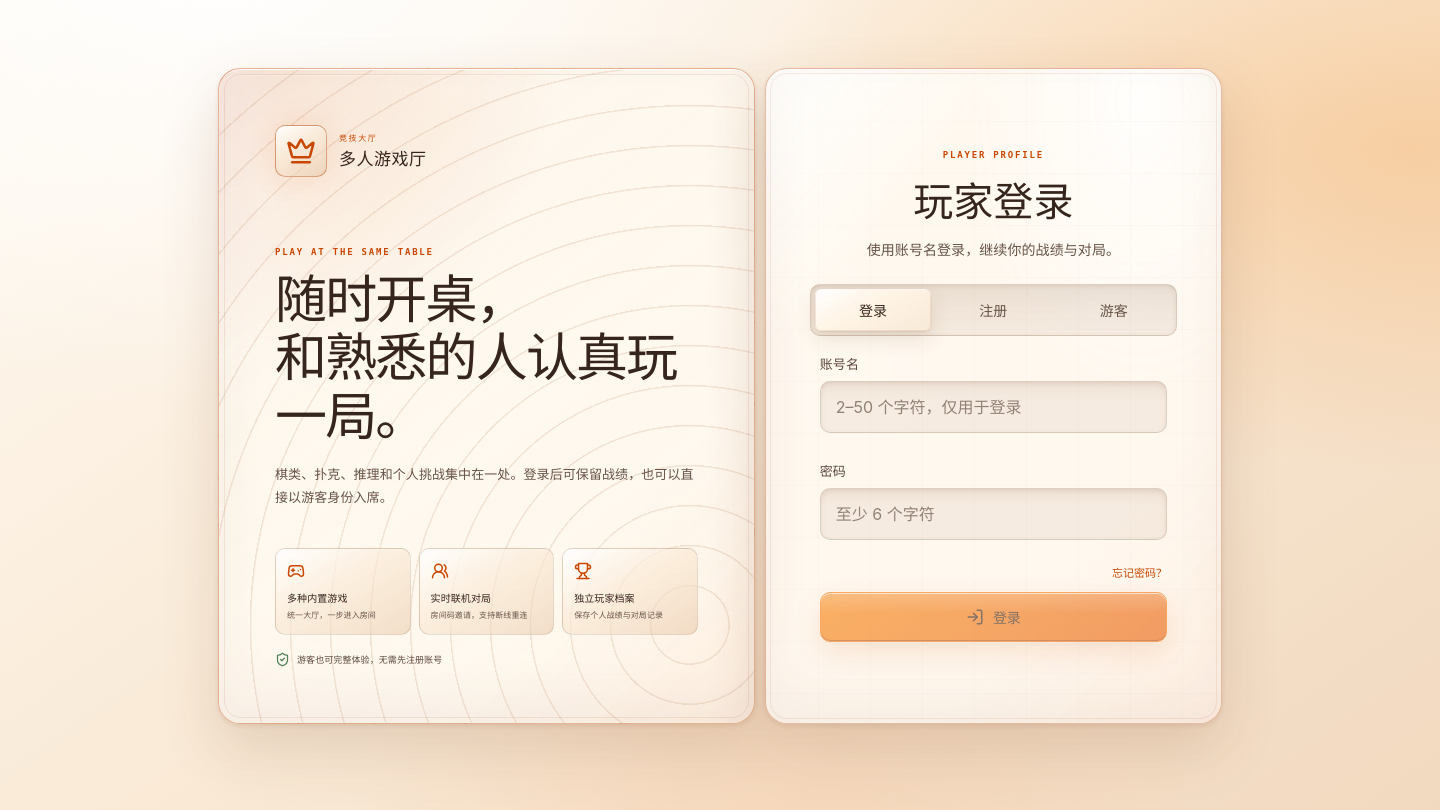
AccountGate › rejects Chinese and unsupported symbols in new account names
Click the button "注册" at (993, 310), box [935,288,1052,330]
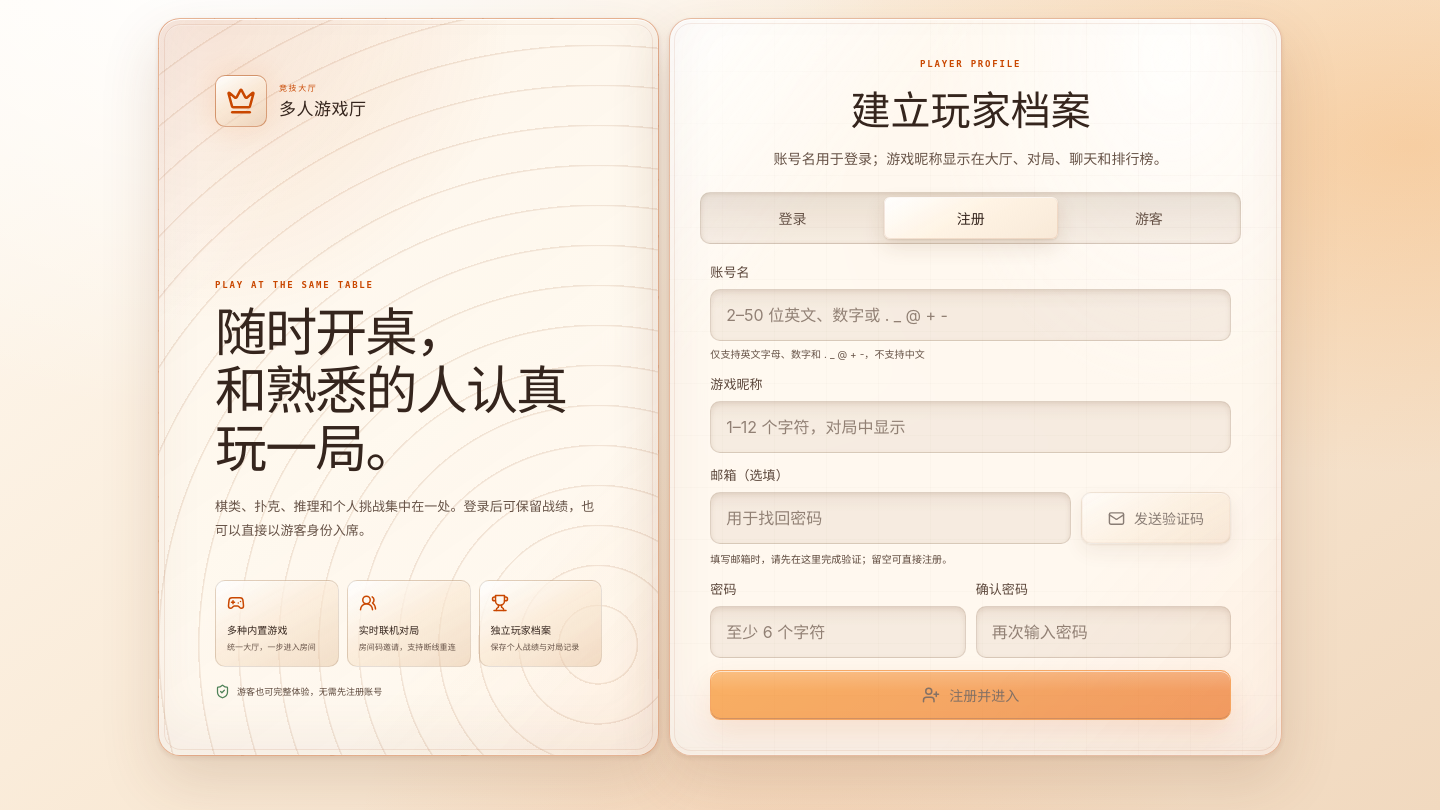
Type "中文账号" into the field labelled "账号名 仅支持英文字母、数字和 . _ @ + -，不支持中文" at (971, 315), box [710,289,1231,341]
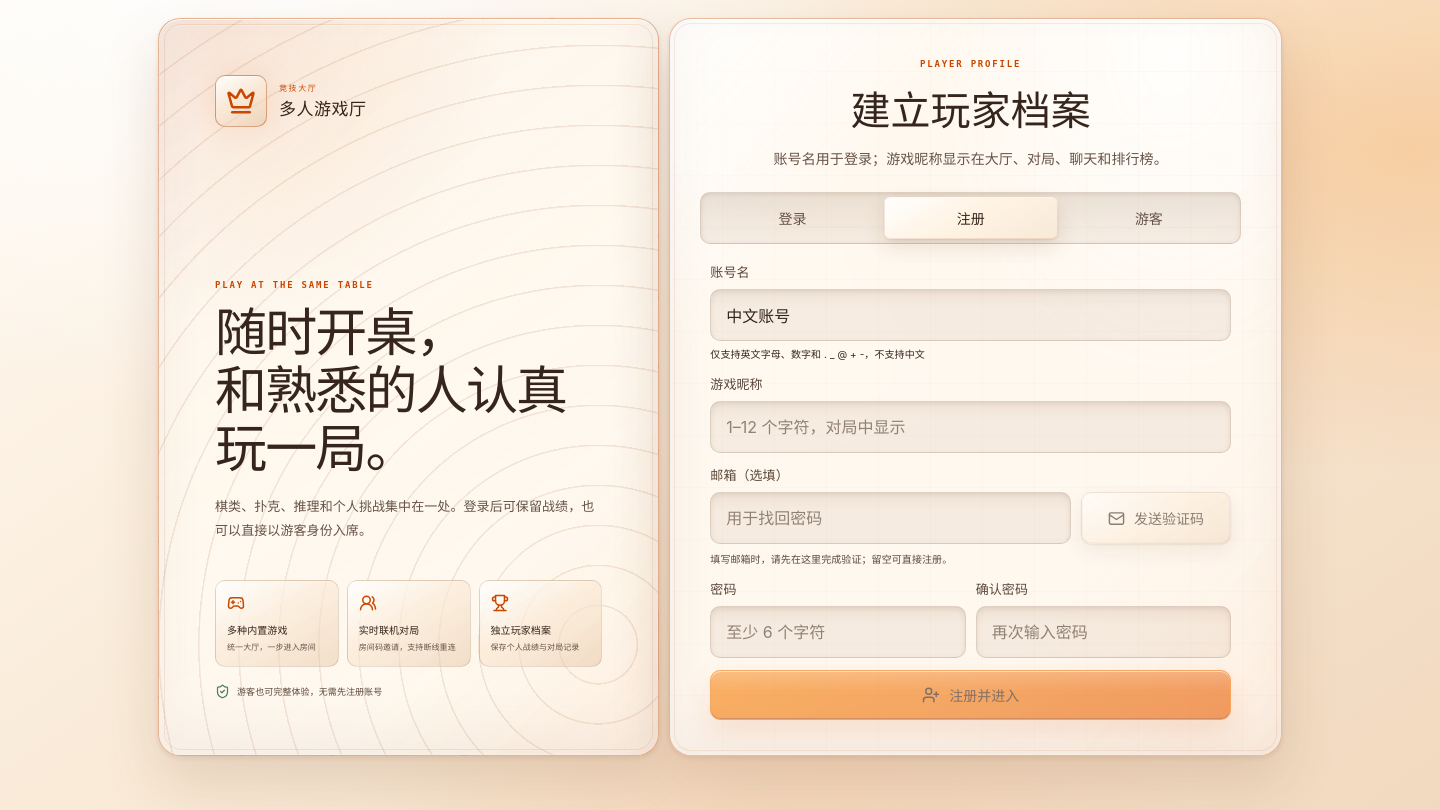
Type "中文昵称" into the field labelled "游戏昵称" at (971, 427), box [710,401,1231,453]
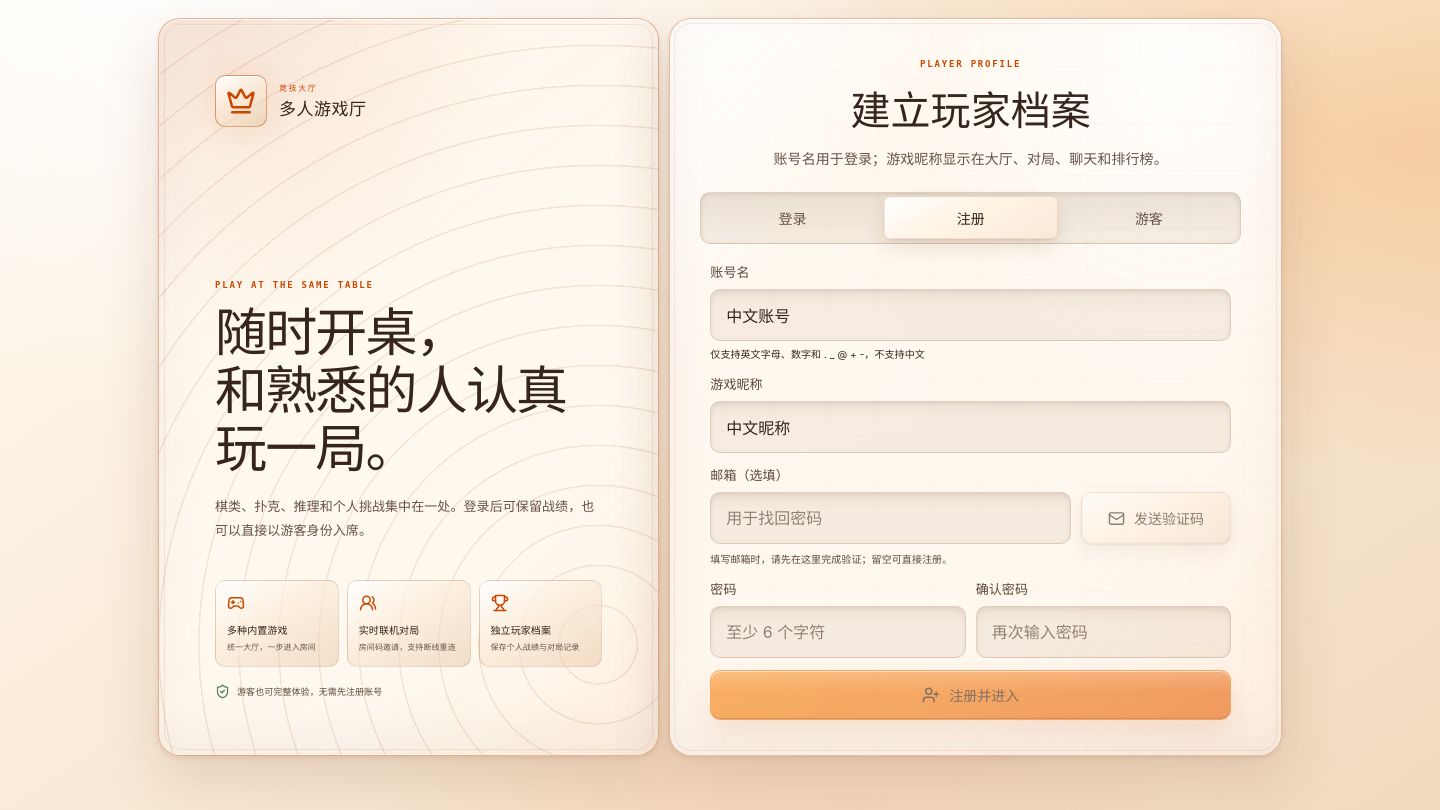
Type "secret123" into the password field labelled "密码" at (838, 632), box [710,606,966,658]
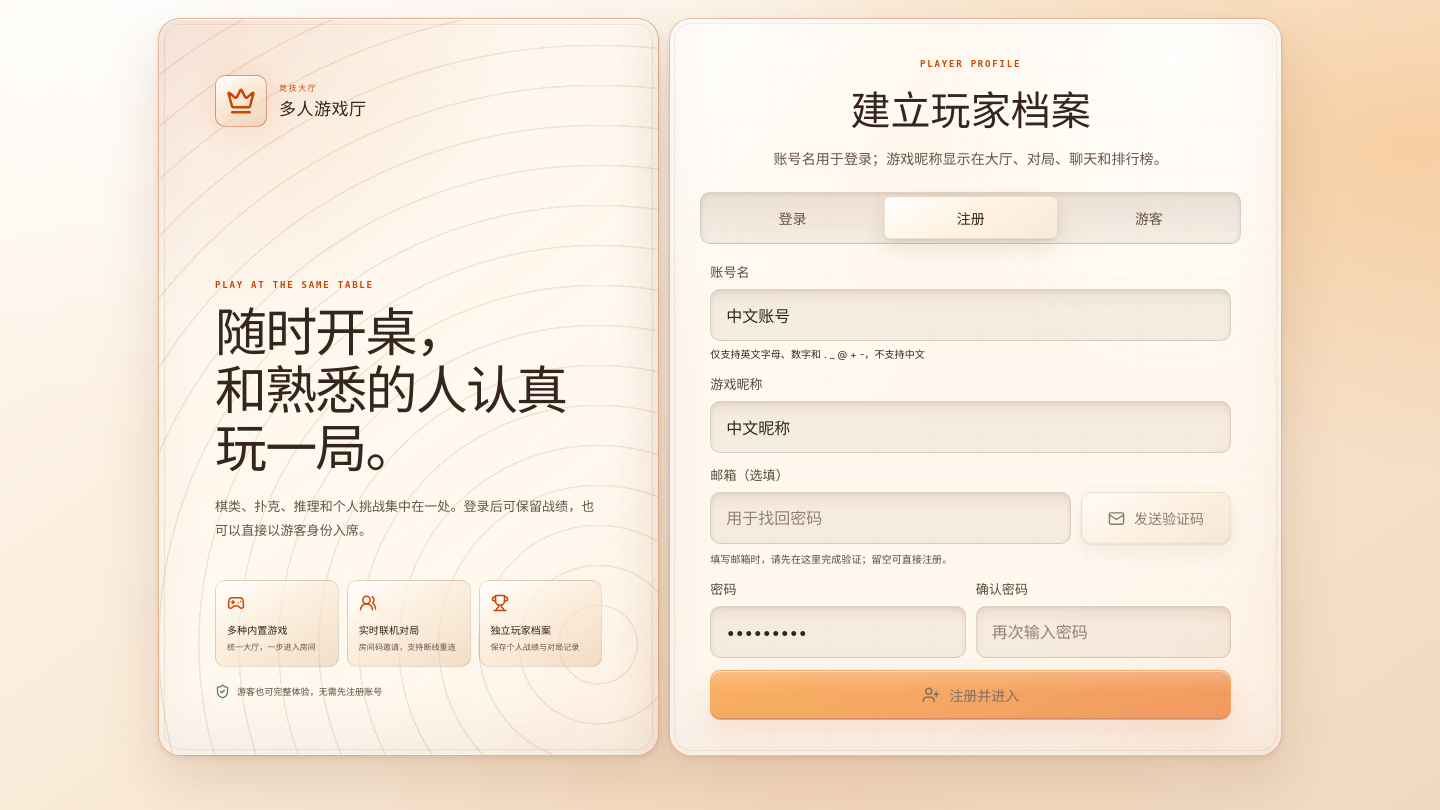
Type "secret123" into the password field labelled "确认密码" at (1103, 632), box [976,606,1231,658]
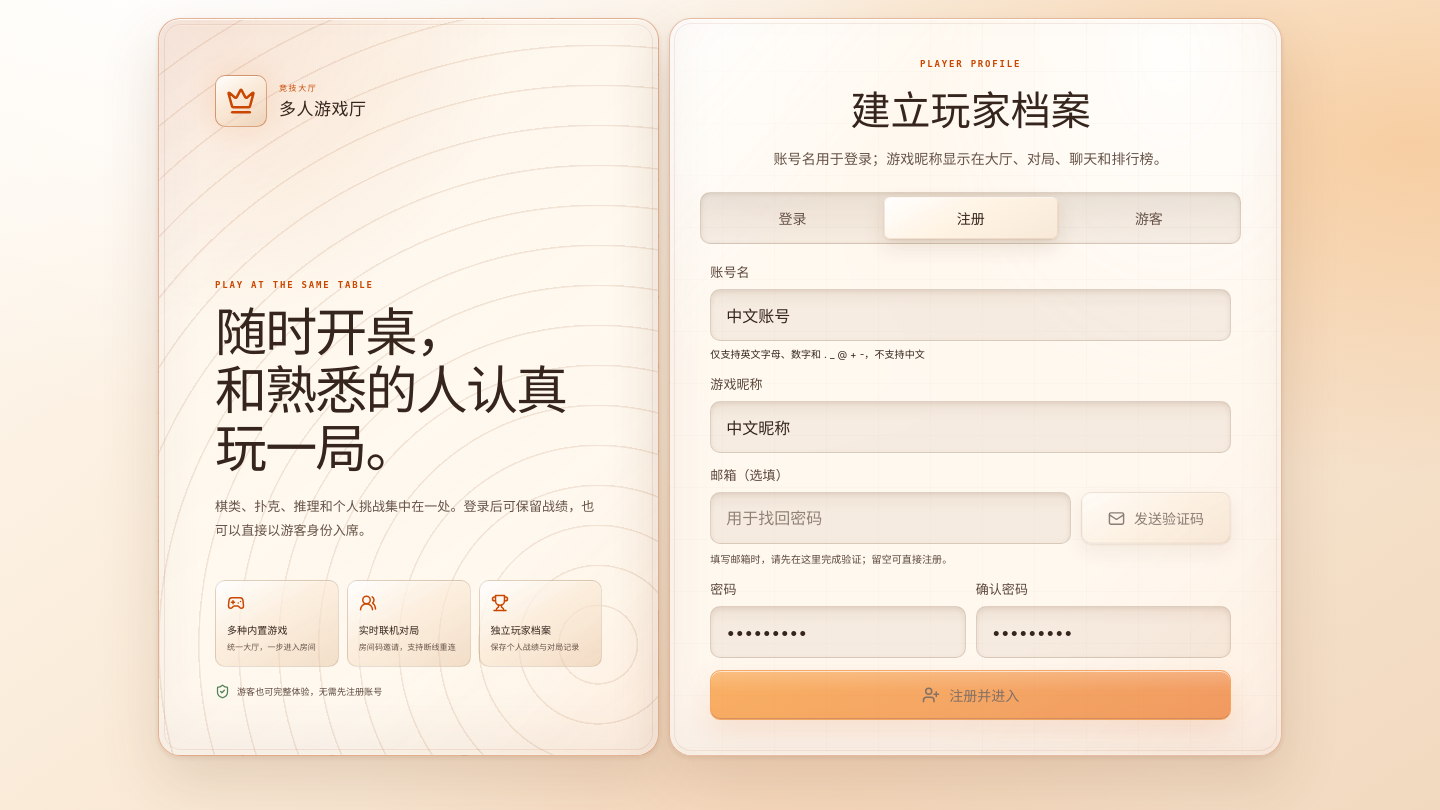
Expected: the submit button is disabled, [710,670,1231,720]
Expected: the text with class "field-hint" shows "不支持中文", [710,348,925,360]
Submit the form, box [710,262,1231,720]
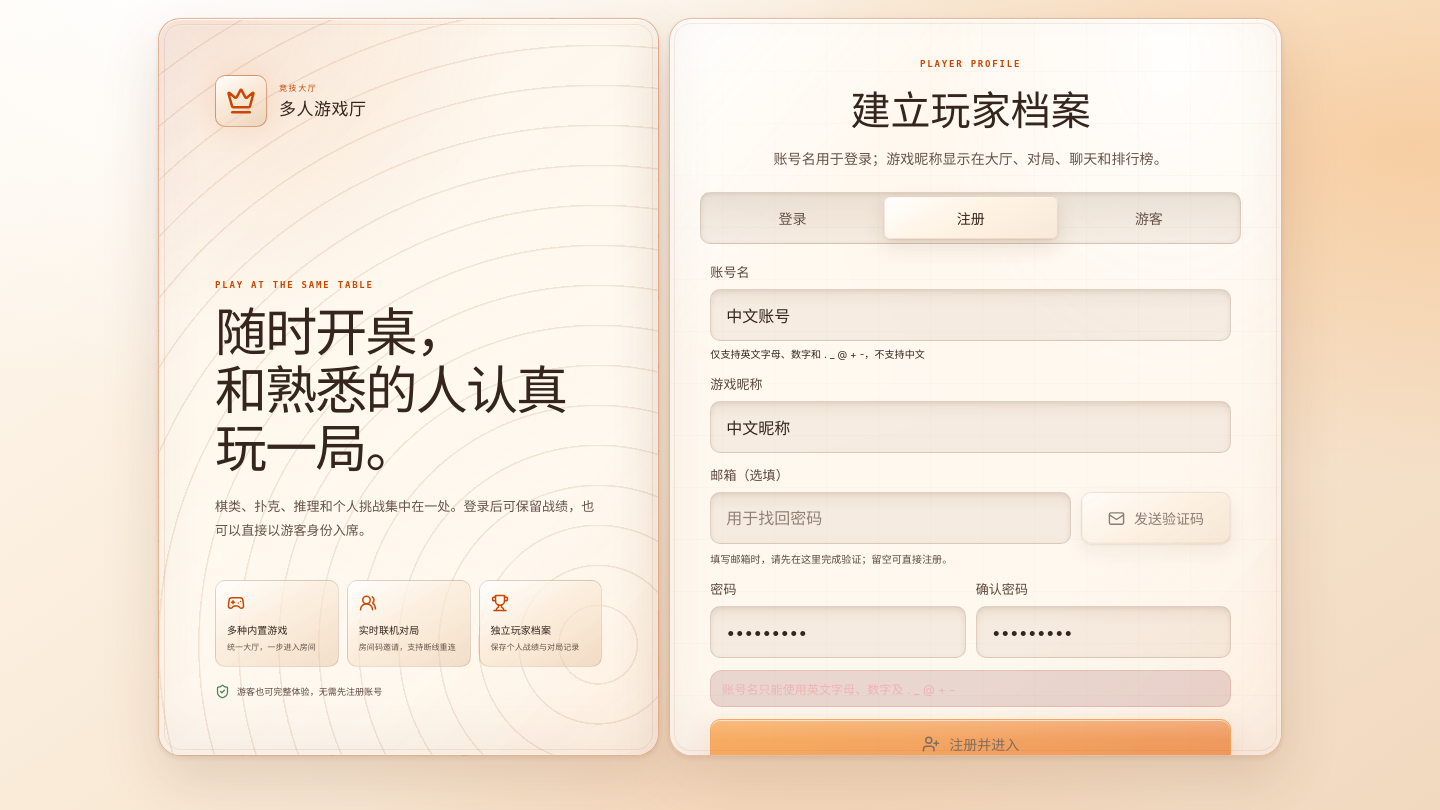
Expected: the message "账号名只能使用英文字母、数字及 . _ @ + -" is shown, [710,670,1231,707]
